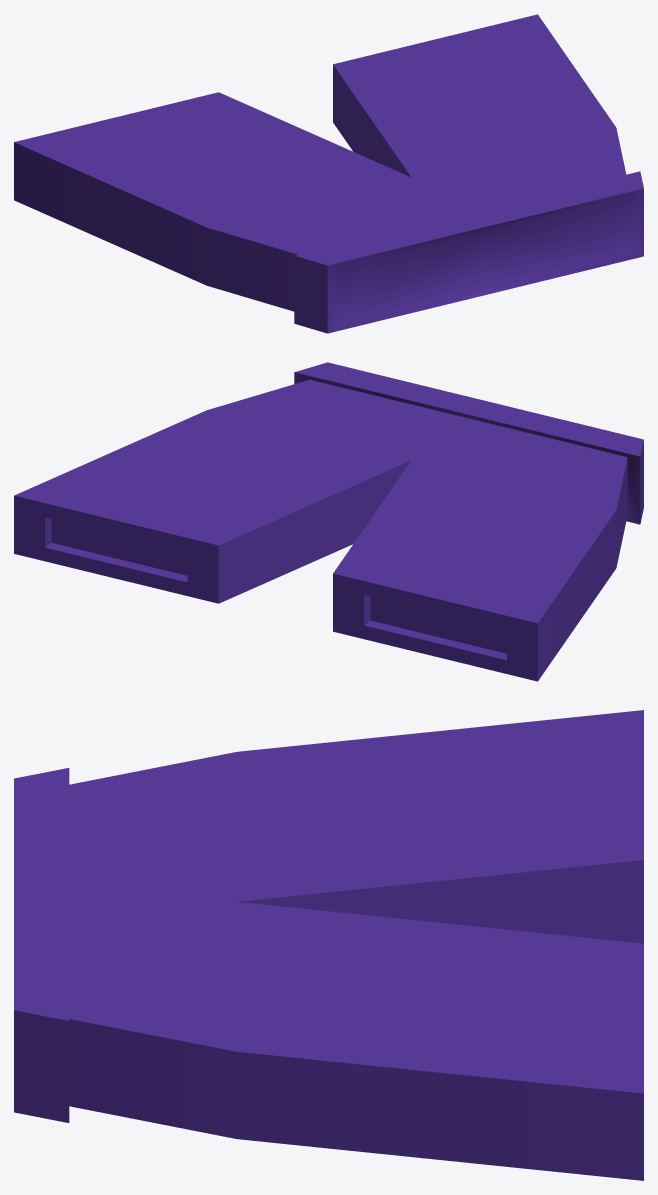
File: short.fbx
3 views of the same model, one above another, from view 1: azimuth 30°, elevation 25°; view 2: azimuth 150°, elevation 25°; view 3: azimuth 270°, elevation 25° (orthographic). The views are drawn at different scales.
Visible parts, largest first — view 1: shorts; view 2: shorts; view 3: shorts.
Boxes of the visible parts, x1=… form: shorts: x1=14, y1=14, x2=643, y2=333; shorts: x1=14, y1=362, x2=643, y2=681; shorts: x1=14, y1=710, x2=643, y2=1180.
Size of the model in its own units: 1.79 by 1.24 by 0.2224.
